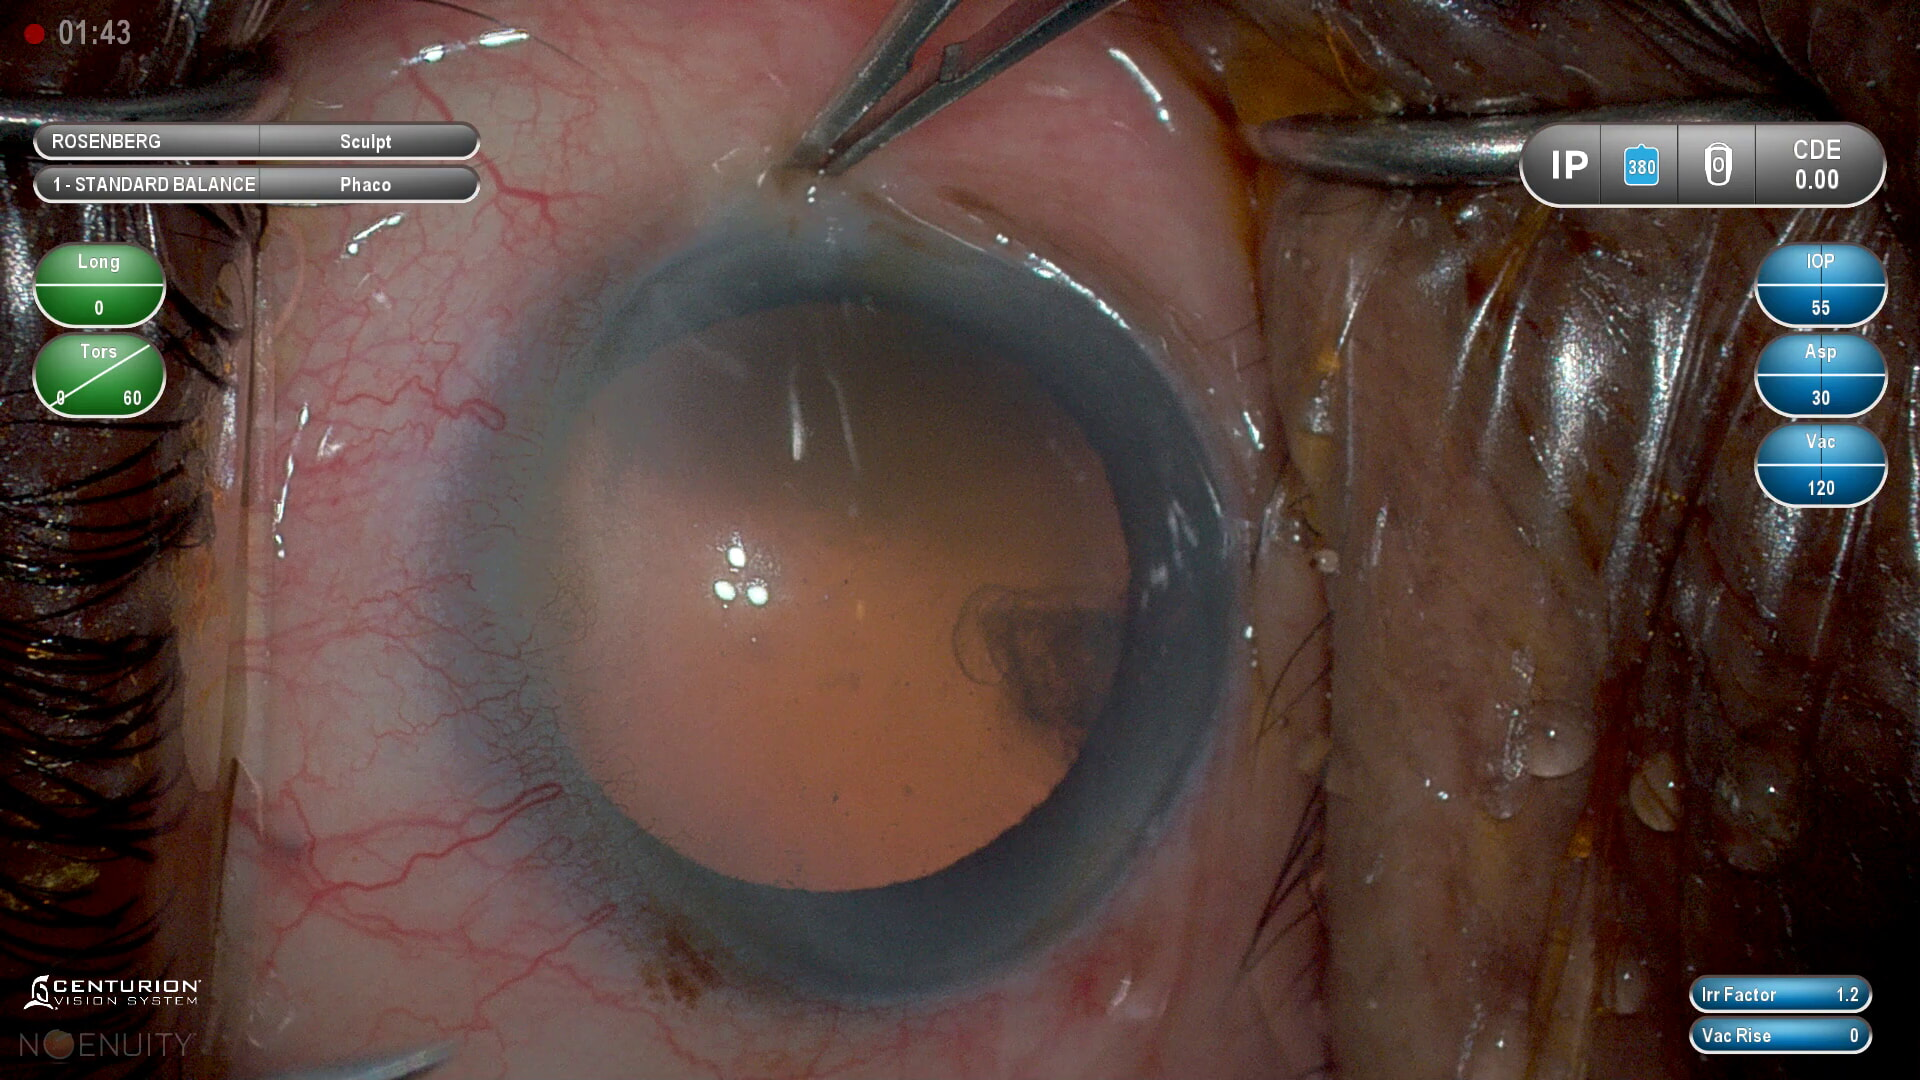iris: (501, 233, 1235, 987)
pupil: (550, 297, 1142, 887)
